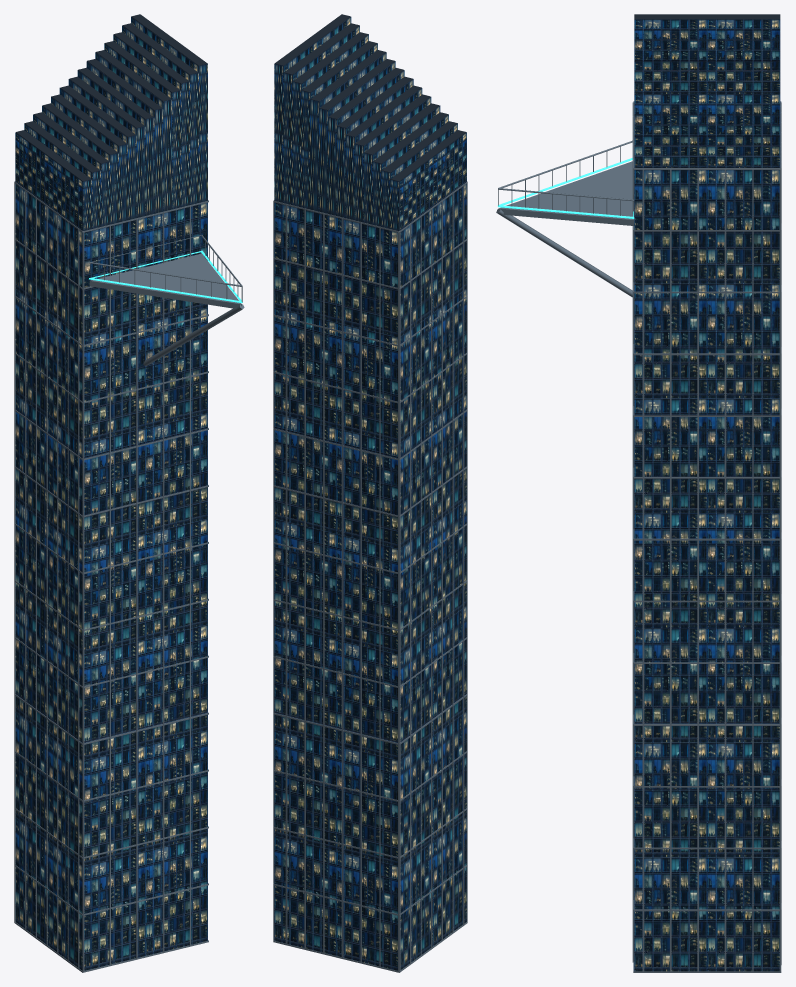
File: hudson-yards-edge.glb
3 views of the same model, side by side, from view 1: azimuth 30°, elevation 25°; view 2: azimuth 150°, elevation 25°; view 3: azimuth 270°, elevation 25° (orthographic). The views are drawn at different scales.
Parts seen in each view (by area): view 1: Facade_atlas_0, Brushed aluminum, Roof membrane and mechanical equipment, Cyan architectural light; view 2: Facade_atlas_0, Brushed aluminum, Roof membrane and mechanical equipment; view 3: Facade_atlas_0, Brushed aluminum, Roof membrane and mechanical equipment, Cyan architectural light.
Boxes of the visible parts, left/top/right/bottom form: Facade_atlas_0: left=15, top=17, right=207, bottom=970; Brushed aluminum: left=14, top=181, right=244, bottom=972; Roof membrane and mechanical equipment: left=16, top=14, right=207, bottom=230; Cyan architectural light: left=89, top=250, right=242, bottom=303; Facade_atlas_0: left=274, top=17, right=466, bottom=970; Brushed aluminum: left=273, top=181, right=467, bottom=972; Roof membrane and mechanical equipment: left=275, top=14, right=466, bottom=230; Facade_atlas_0: left=634, top=19, right=780, bottom=971; Brushed aluminum: left=496, top=101, right=781, bottom=972; Roof membrane and mechanical equipment: left=634, top=14, right=780, bottom=19; Cyan architectural light: left=498, top=158, right=634, bottom=218.
Size of the model in its own units: 3.15 by 20.9 by 5.67.
Materials: 4 (1 with a texture image).
